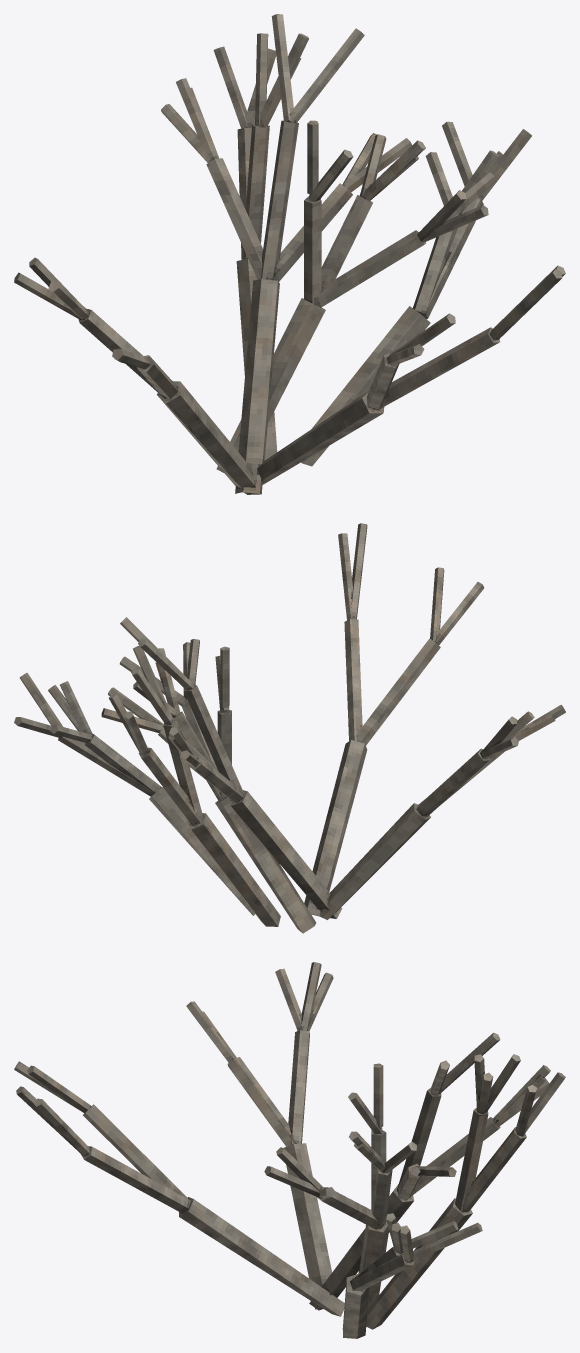
File: snow_shrub.glb
The picture shows the model from 3 angles, top to bottom: view 1: azimuth 30°, elevation 25°; view 2: azimuth 150°, elevation 25°; view 3: azimuth 270°, elevation 25°; orthographic projection. The views are drawn at different scales.
Visible parts, largest first — view 1: snow_shrub; view 2: snow_shrub; view 3: snow_shrub.
Boxes of the visible parts, x1,y1,x2,y2 form: snow_shrub: (14, 14, 565, 494); snow_shrub: (14, 523, 565, 933); snow_shrub: (14, 962, 565, 1338).
Size of the model in its own units: 1.35 by 0.8646 by 1.32.
Materials: 1 (1 with a texture image).
